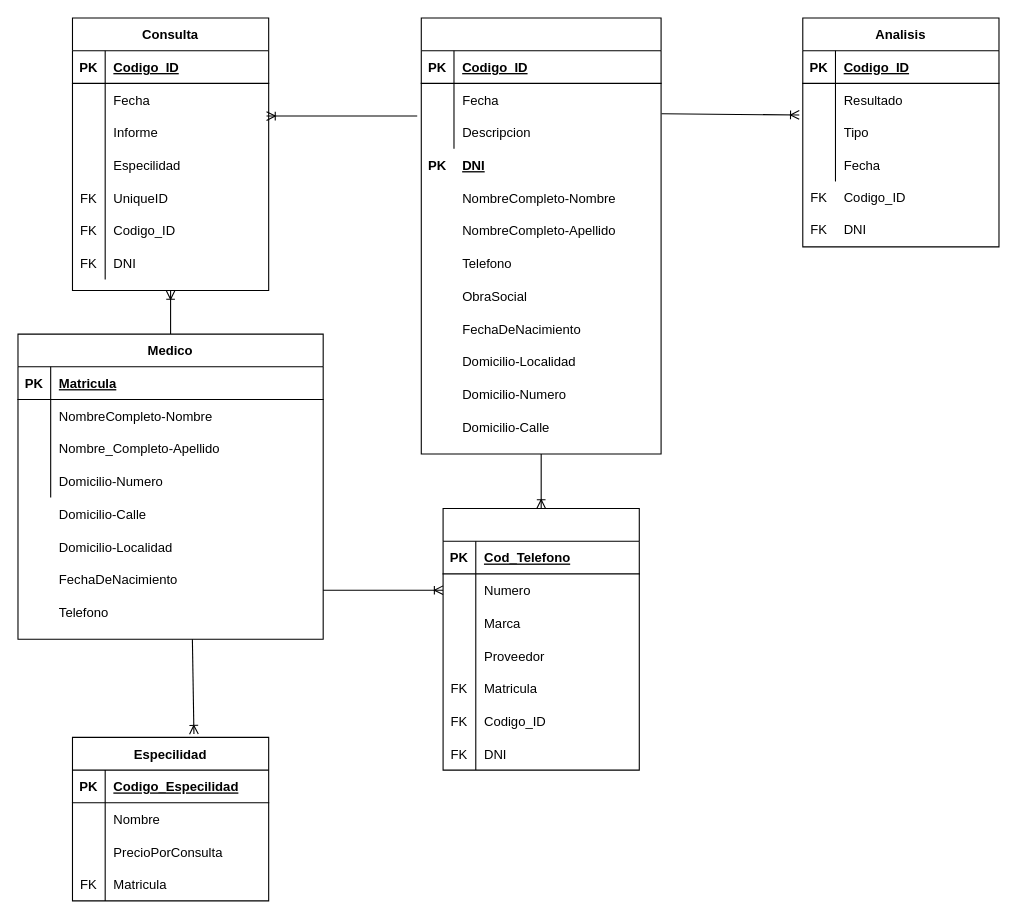
Image size: 1017x919. Some labels were removed from this diagram. The shapes that lost their labels are listed below. From the top down, each one's box as (x1, y1, x2, y2) in pixels, then its label:
(420, 17, 661, 454): Historia Clinica
(442, 507, 639, 770): Telefonos
